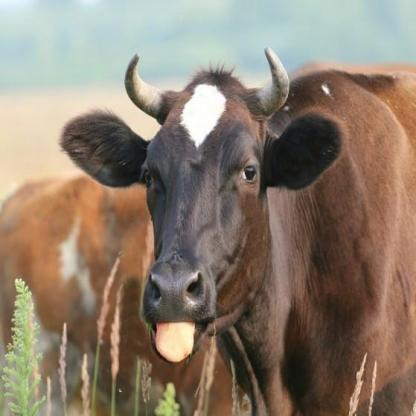cow: (63, 58, 416, 416)
